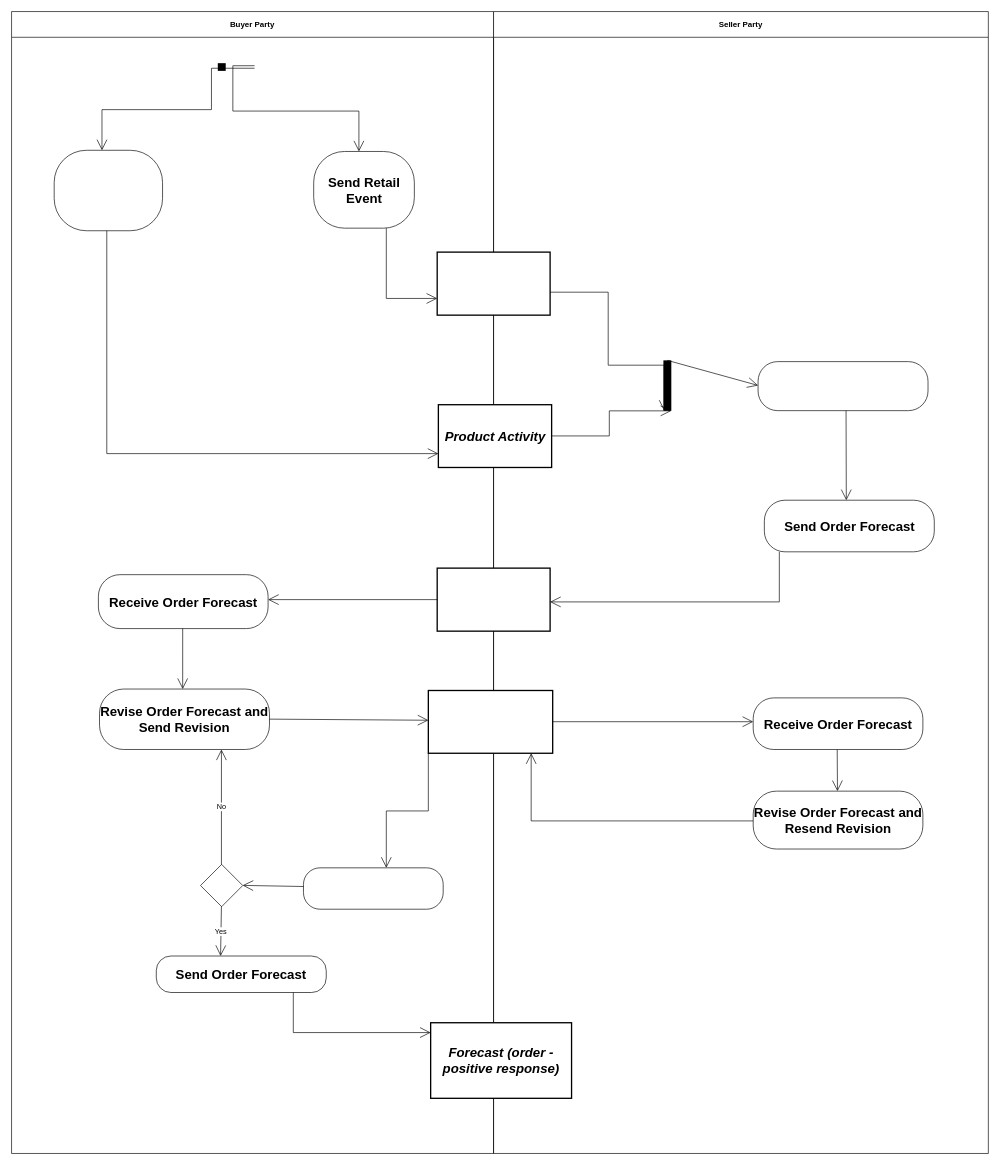
This 1000x1166 diagram has some shape labels left out. Here are the shapes that lost their labels. From the top down, the centre of each, then its label:
At pixel 108 190: "Send Product Activity".
At pixel 493 283: "Retail Event".
At pixel 842 386: "Receive".
At pixel 493 599: "Forecast (order)".
At pixel 490 722: "Forecast Revision (order)".
At pixel 373 888: "Receive Revision".
